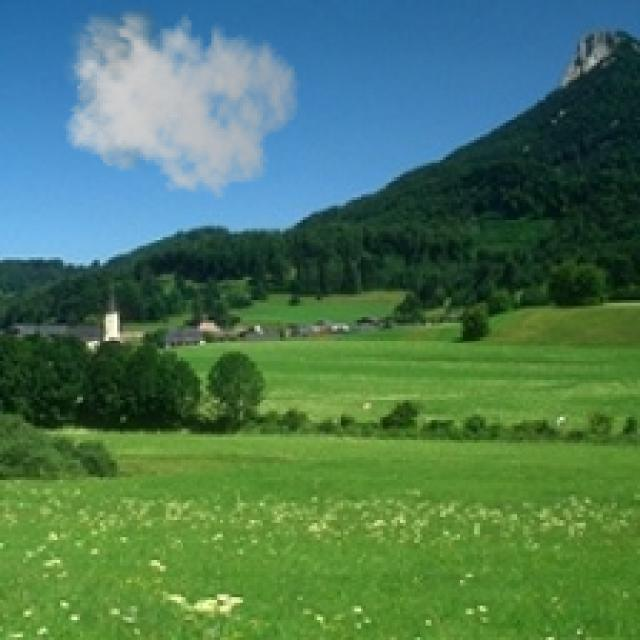smoke: (57, 0, 300, 200)
